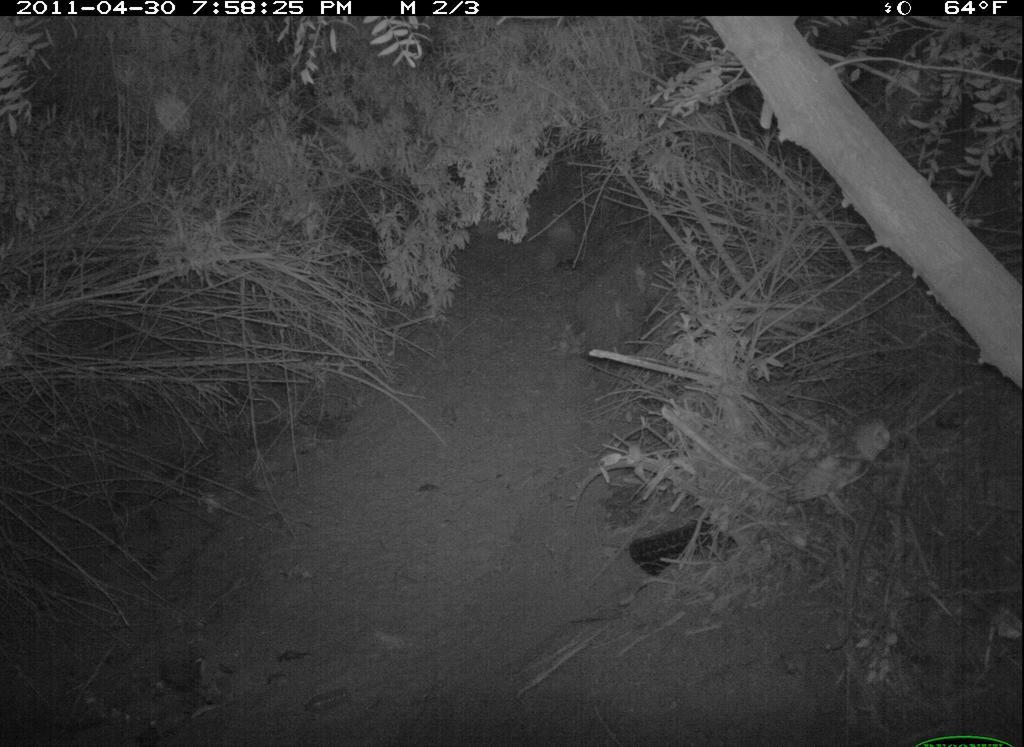bird: (779, 414, 903, 529)
